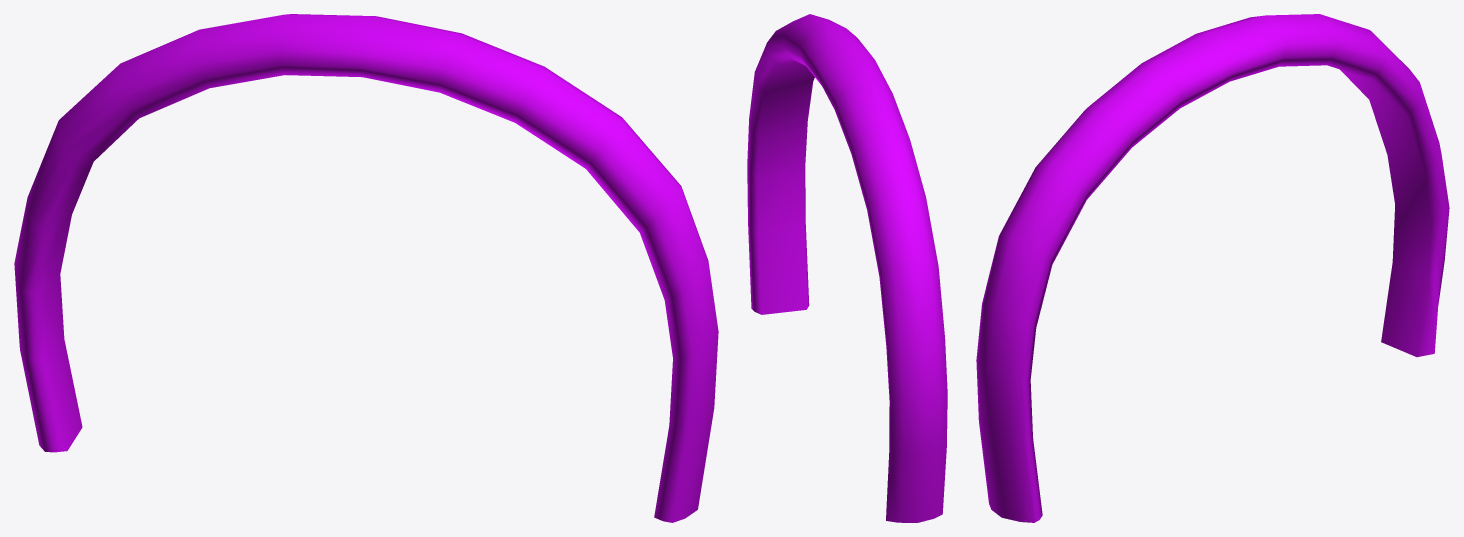
The model's file is tiedModelLeftBig.glb.
3 renders of one model, left to right at view 1: azimuth 30°, elevation 25°; view 2: azimuth 150°, elevation 25°; view 3: azimuth 270°, elevation 25°, orthographic. The views are drawn at different scales.
Visible parts, largest first — view 1: tiedModelLeftBig; view 2: tiedModelLeftBig; view 3: tiedModelLeftBig.
Part boxes in pixels (x1,y1,x2,y2): tiedModelLeftBig: (14, 14, 718, 522); tiedModelLeftBig: (747, 14, 947, 522); tiedModelLeftBig: (976, 14, 1449, 522).
Size of the model in its own units: 1.48 by 1.37 by 1.48.
